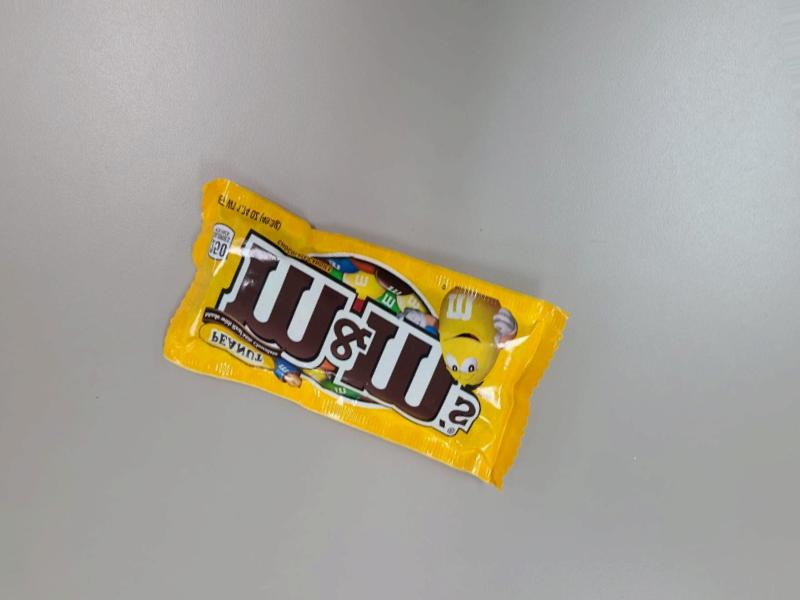m&m: (183, 170, 564, 481)
